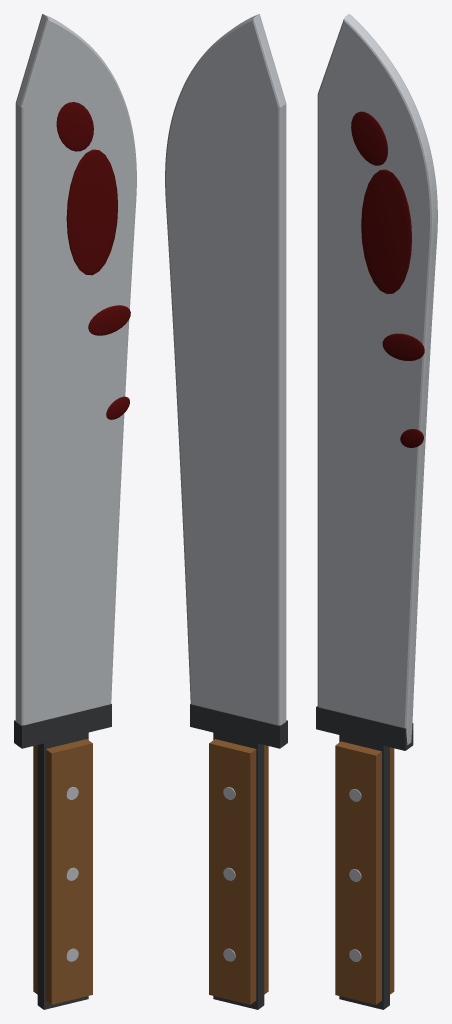
Rendered from machete.glb.
3 views of the same model, side by side, from view 1: azimuth 30°, elevation 25°; view 2: azimuth 150°, elevation 25°; view 3: azimuth 330°, elevation 25° (orthographic).
Visible parts, largest first — view 1: hoja, cacha_1, hoja_sangre_1, espiga, recazo, hoja_sangre_3, cacha_2, hoja_sangre_2, hoja_sangre_4; view 2: hoja, cacha_2, espiga, recazo, cacha_1; view 3: hoja, cacha_1, hoja_sangre_1, espiga, recazo, hoja_sangre_3, cacha_2, hoja_sangre_2, hoja_sangre_4.
Boxes of the visible parts, x1,y1,x2,y2 form: hoja: [15, 14, 136, 725]; cacha_1: [45, 739, 92, 1004]; hoja_sangre_1: [66, 149, 117, 275]; espiga: [37, 732, 88, 1009]; recazo: [14, 704, 111, 748]; hoja_sangre_3: [56, 102, 93, 151]; cacha_2: [33, 745, 37, 994]; hoja_sangre_2: [88, 305, 130, 335]; hoja_sangre_4: [106, 396, 129, 419]; hoja: [165, 14, 286, 725]; cacha_2: [209, 739, 256, 1004]; espiga: [213, 732, 264, 1009]; recazo: [190, 704, 287, 748]; cacha_1: [264, 745, 268, 994]; hoja: [317, 14, 437, 744]; cacha_1: [335, 741, 381, 1004]; hoja_sangre_1: [361, 169, 411, 293]; espiga: [339, 735, 389, 1009]; recazo: [316, 706, 413, 750]; hoja_sangre_3: [351, 111, 387, 165]; cacha_2: [390, 747, 394, 994]; hoja_sangre_2: [382, 333, 424, 360]; hoja_sangre_4: [400, 429, 423, 447].
Bounding box in the file's own units: 0.2714 × 2.21 × 0.078.
